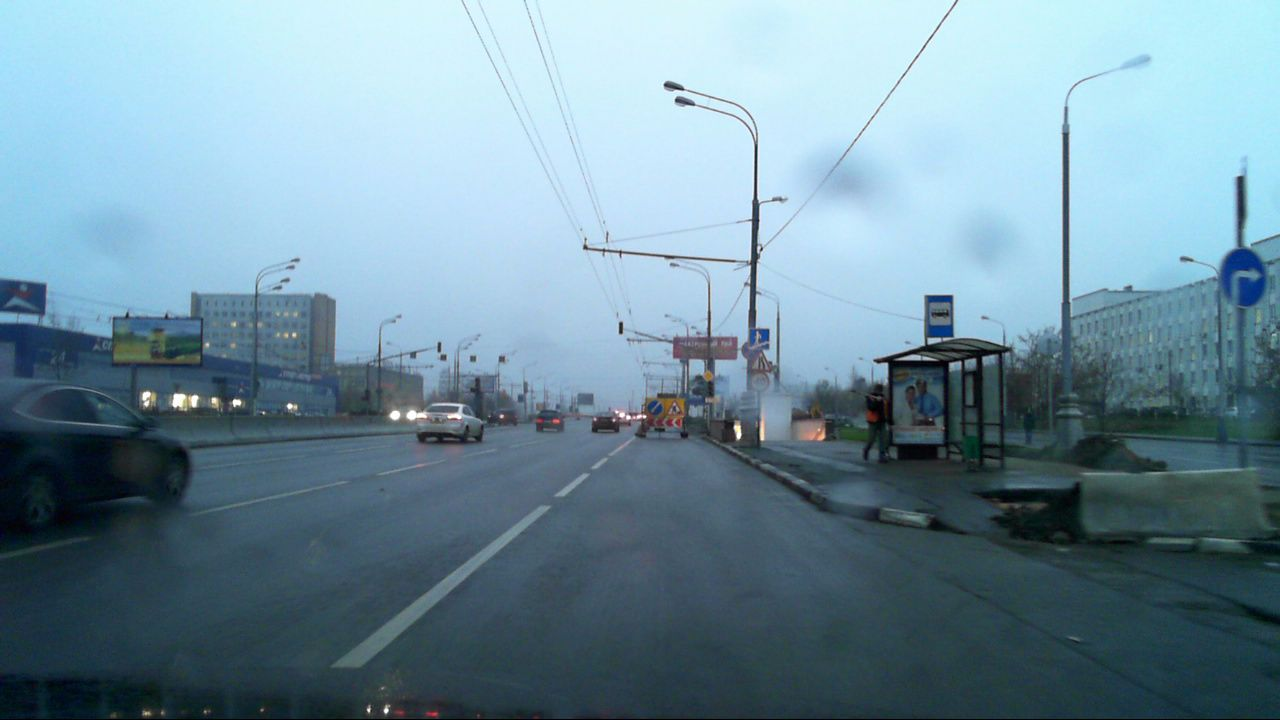No Parking: (739, 341, 758, 361)
